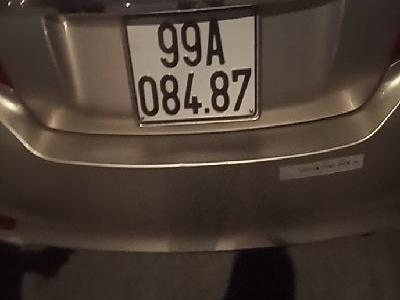number: (121, 8, 260, 127)
